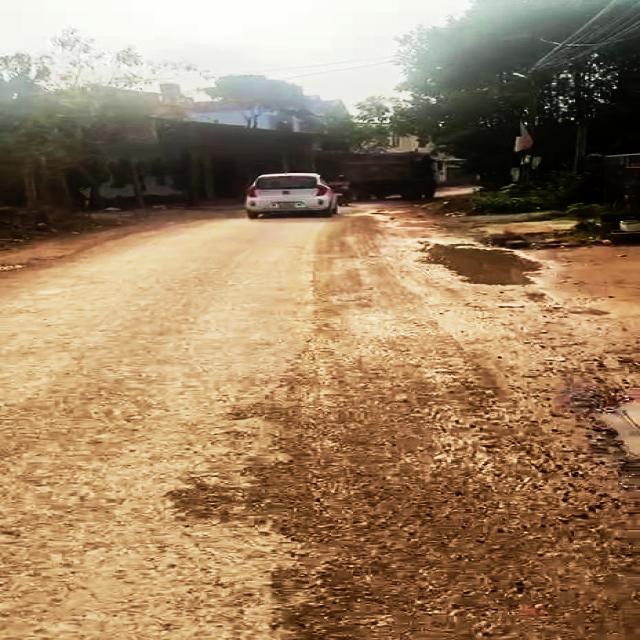pothole: (554, 382, 640, 471), (413, 236, 548, 288)
